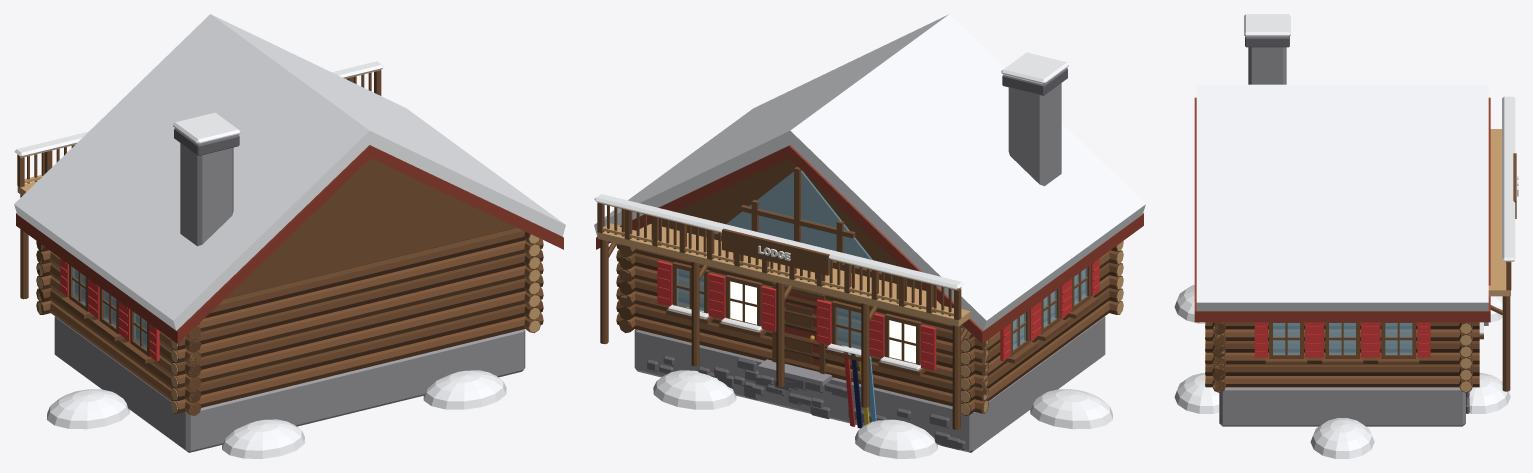
File: SkiLodge.fbx
The picture shows the model from 3 angles, left to right: view 1: azimuth 30°, elevation 25°; view 2: azimuth 150°, elevation 25°; view 3: azimuth 270°, elevation 25°; orthographic projection. The views are drawn at different scales.
Parts seen in each view (by area): view 1: SkiLodge_Snow, SkiLodge_WoodDark, SkiLodge_Stone, SkiLodge_Bark, SkiLodge_WoodRed, SkiLodge_WoodLight, SkiLodge_Red, SkiLodge_Glass, SkiLodge_StoneDark; view 2: SkiLodge_Snow, SkiLodge_WoodDark, SkiLodge_Stone, SkiLodge_Bark, SkiLodge_WoodLight, SkiLodge_WoodRed, SkiLodge_Glass, SkiLodge_Red, SkiLodge_StoneDark, SkiLodge_WindowGlow; view 3: SkiLodge_Snow, SkiLodge_Stone, SkiLodge_WoodDark, SkiLodge_Bark, SkiLodge_WoodRed, SkiLodge_WoodLight, SkiLodge_Red, SkiLodge_Glass, SkiLodge_StoneDark.
Part boxes in pixels (x1,y1,x2,y2): SkiLodge_Snow: (14, 14, 565, 458); SkiLodge_WoodDark: (17, 70, 543, 415); SkiLodge_Stone: (54, 143, 525, 452); SkiLodge_Bark: (36, 227, 543, 403); SkiLodge_WoodRed: (16, 145, 563, 343); SkiLodge_WoodLight: (17, 69, 540, 412); SkiLodge_Red: (60, 258, 159, 361); SkiLodge_Glass: (72, 268, 146, 349); SkiLodge_StoneDark: (174, 128, 239, 155); SkiLodge_Snow: (594, 14, 1145, 458); SkiLodge_WoodDark: (597, 158, 1123, 429); SkiLodge_Stone: (634, 83, 1105, 452); SkiLodge_Bark: (616, 241, 1123, 403); SkiLodge_WoodLight: (597, 202, 1123, 414); SkiLodge_WoodRed: (596, 145, 1143, 366); SkiLodge_Glass: (677, 171, 1087, 349); SkiLodge_Red: (657, 258, 1099, 426); SkiLodge_StoneDark: (647, 68, 1067, 450); SkiLodge_WindowGlow: (730, 281, 915, 363); SkiLodge_Snow: (1174, 14, 1515, 458); SkiLodge_Stone: (1219, 47, 1488, 426); SkiLodge_WoodDark: (1205, 153, 1516, 392); SkiLodge_Bark: (1205, 322, 1479, 380); SkiLodge_WoodRed: (1194, 97, 1490, 322); SkiLodge_WoodLight: (1205, 129, 1510, 391); SkiLodge_Red: (1254, 322, 1430, 357); SkiLodge_Glass: (1273, 323, 1412, 354); SkiLodge_StoneDark: (1245, 36, 1469, 413).
Size of the model in its own units: 45.1 by 26.9 by 30.66.
